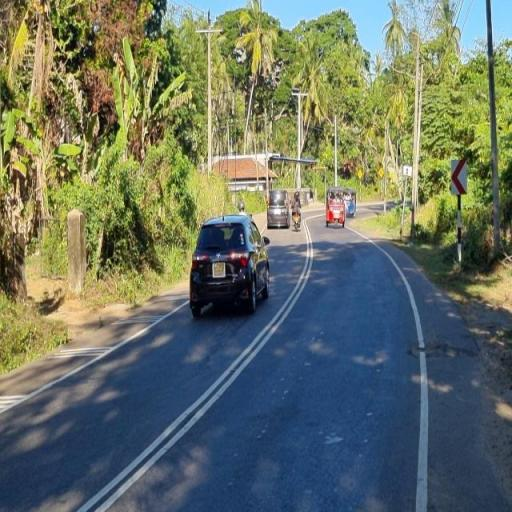double_white_line: (75, 217, 315, 512)
